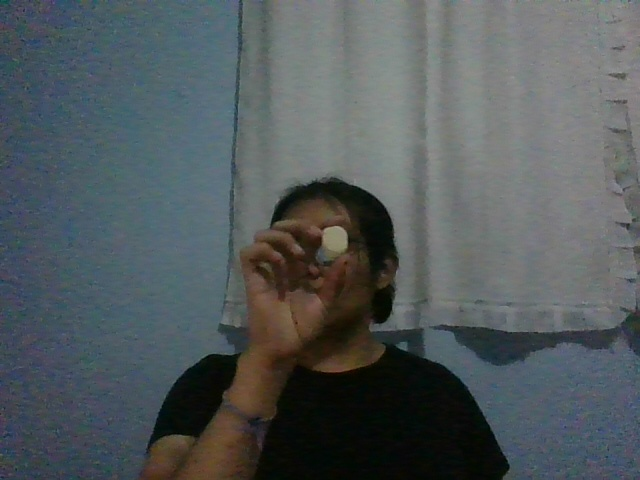goma: (321, 226, 348, 256)
